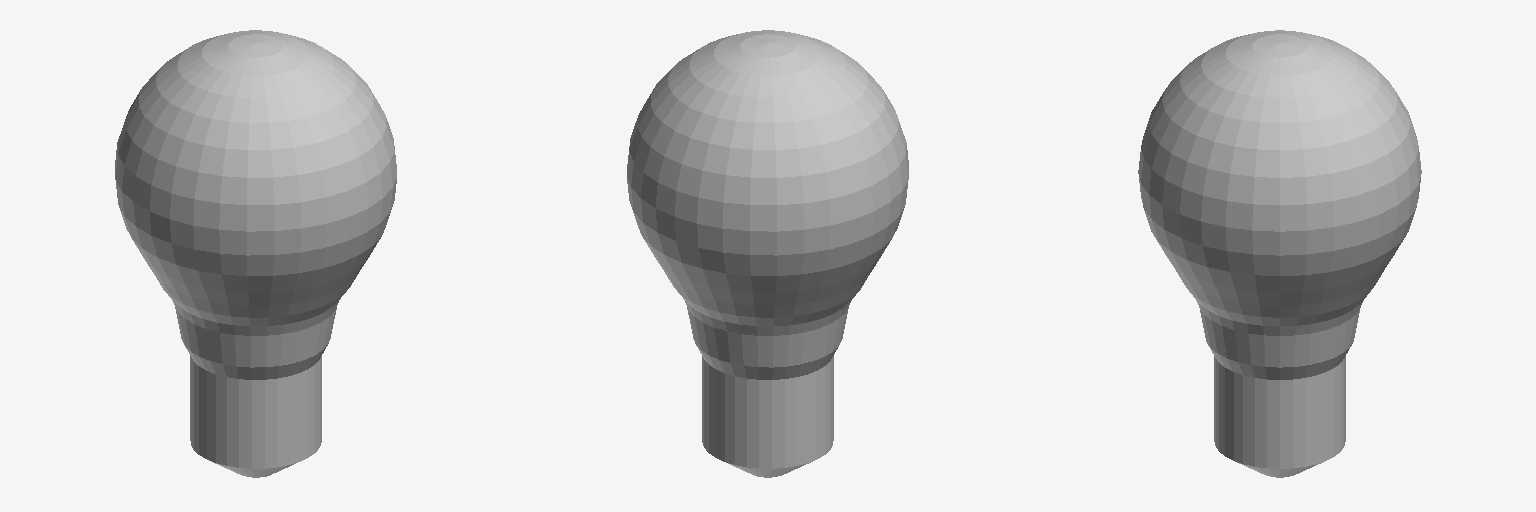
The model's file is lightbulb.obj.
3 views of the same model, side by side, from view 1: azimuth 30°, elevation 25°; view 2: azimuth 150°, elevation 25°; view 3: azimuth 270°, elevation 25° (orthographic).
Parts seen in each view (by area): view 1: Sphere; view 2: Sphere; view 3: Sphere.
Part boxes in pixels (left/top/right/bottom): Sphere: left=115, top=30, right=396, bottom=477; Sphere: left=627, top=30, right=908, bottom=477; Sphere: left=1138, top=30, right=1421, bottom=477.
Bounding box in the file's own units: 2.58 × 4.27 × 2.58.